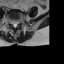CCS_normal: (14, 20, 15, 29)
LFS_normal: (18, 19, 20, 26)
LLS_normal: (15, 20, 17, 28)
RFS_normal: (10, 19, 12, 26)
RLS_normal: (12, 20, 14, 27)
